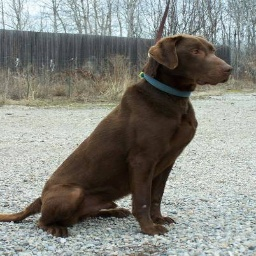dog: (30, 34, 234, 233)
